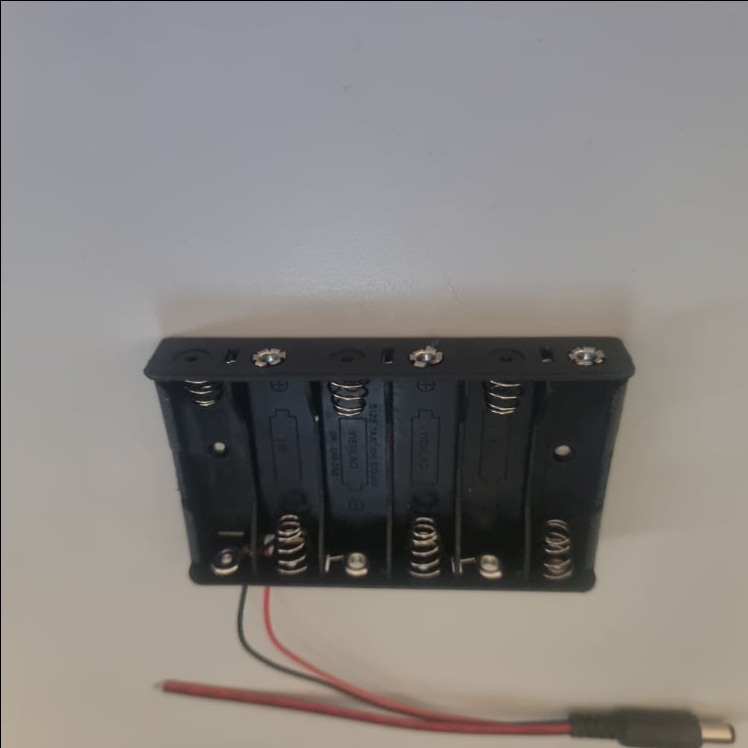BATTERY BOX: (140, 334, 636, 591)
